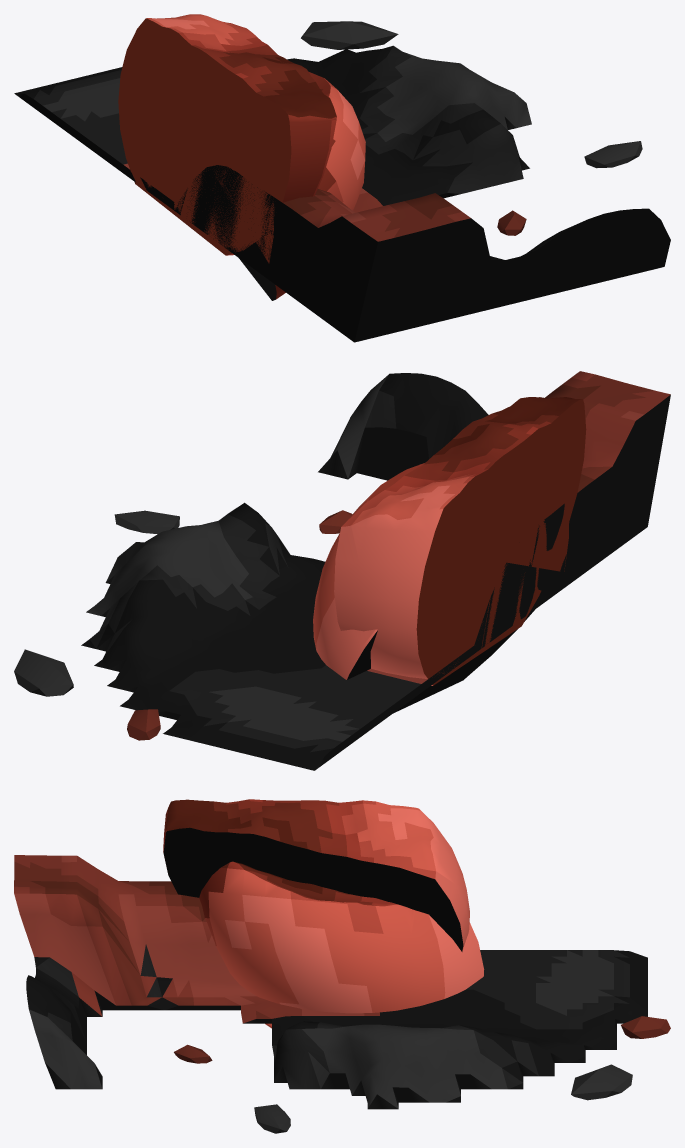
File: brick_bulb_tr_wreck.glb
3 renders of one model, top to bottom at view 1: azimuth 30°, elevation 25°; view 2: azimuth 150°, elevation 25°; view 3: azimuth 270°, elevation 25°, orthographic. The views are drawn at different scales.
Parts seen in each view (by area): view 1: brick_bulb_tr_wreck; view 2: brick_bulb_tr_wreck; view 3: brick_bulb_tr_wreck.
Boxes of the visible parts, x1,y1,x2,y2 form: brick_bulb_tr_wreck: [14, 14, 670, 342]; brick_bulb_tr_wreck: [14, 371, 670, 770]; brick_bulb_tr_wreck: [14, 799, 670, 1133].
Size of the model in its own units: 13.4 by 7.89 by 21.07.
